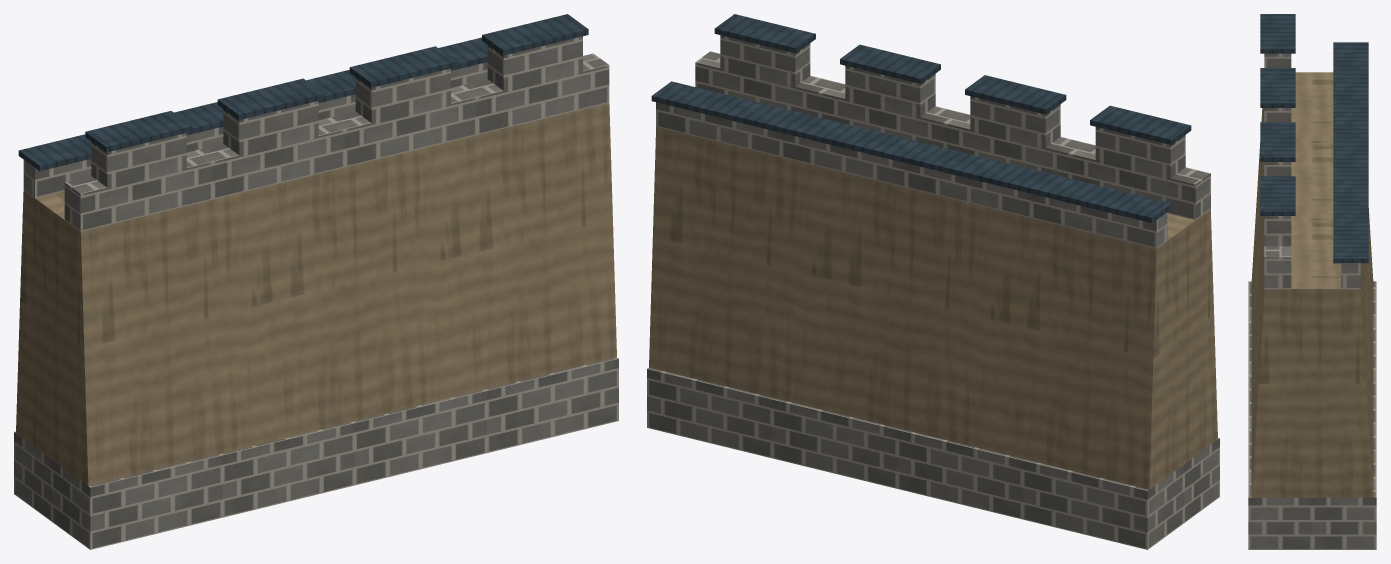
Rendered from town_wall.glb.
3 renders of one model, left to right at view 1: azimuth 30°, elevation 25°; view 2: azimuth 150°, elevation 25°; view 3: azimuth 270°, elevation 25°, orthographic. The views are drawn at different scales.
Parts seen in each view (by area): view 1: WallEarth, WallBrick, WallCoping; view 2: WallEarth, WallBrick, WallCoping; view 3: WallEarth, WallCoping, WallBrick.
Part boxes in pixels (left/top/right/bottom): WallEarth: left=16, top=103, right=616, bottom=486; WallBrick: left=14, top=36, right=618, bottom=549; WallCoping: left=18, top=14, right=588, bottom=171; WallEarth: left=649, top=126, right=1217, bottom=489; WallBrick: left=647, top=35, right=1219, bottom=549; WallCoping: left=651, top=14, right=1191, bottom=222; WallEarth: left=1251, top=72, right=1373, bottom=497; WallCoping: left=1260, top=14, right=1368, bottom=263; WallBrick: left=1248, top=53, right=1376, bottom=549.
Size of what is drawn, in the model's own units: 8 by 5.67 by 2.
3 materials, 3 textured.
